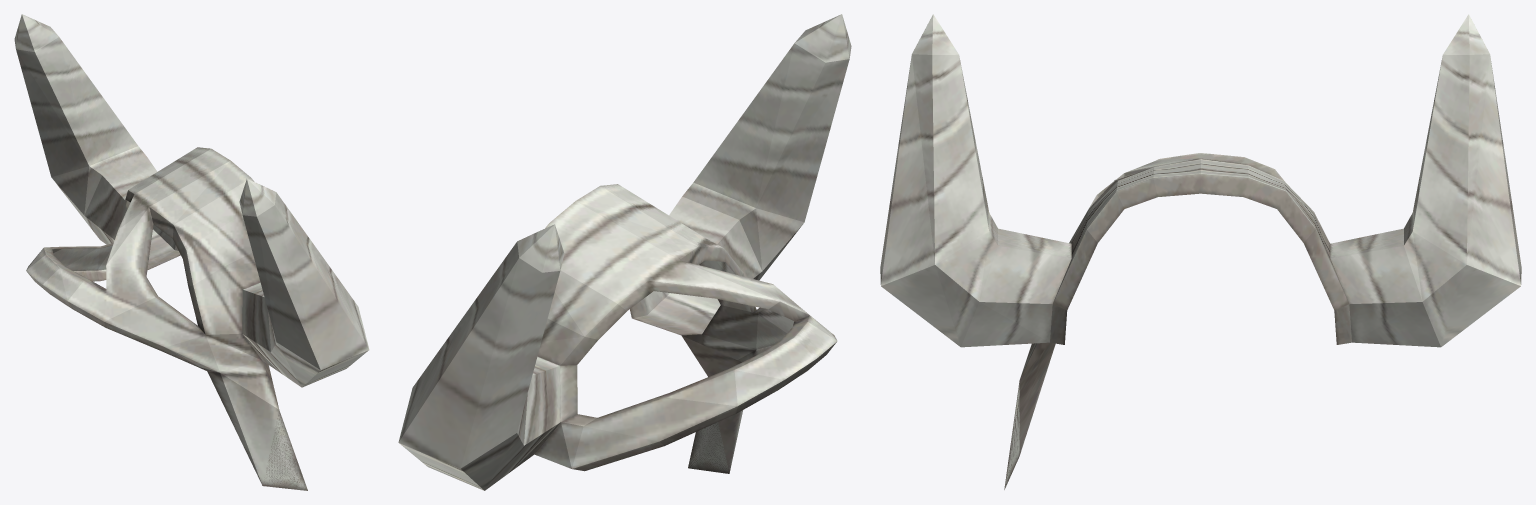
The model's file is Bison_mummyHead.obj.
3 renders of one model, left to right at view 1: azimuth 30°, elevation 25°; view 2: azimuth 150°, elevation 25°; view 3: azimuth 270°, elevation 25°, orthographic. The views are drawn at different scales.
Parts seen in each view (by area): view 1: Bison_mummyHead_tri; view 2: Bison_mummyHead_tri; view 3: Bison_mummyHead_tri.
Part boxes in pixels (box(x1,y1,x2,y2)): Bison_mummyHead_tri: box(14, 14, 369, 490); Bison_mummyHead_tri: box(398, 14, 851, 490); Bison_mummyHead_tri: box(880, 14, 1521, 489).
Bounding box in the file's own units: 0.5667 × 0.9144 × 1.25.
1 material, 1 textured.
